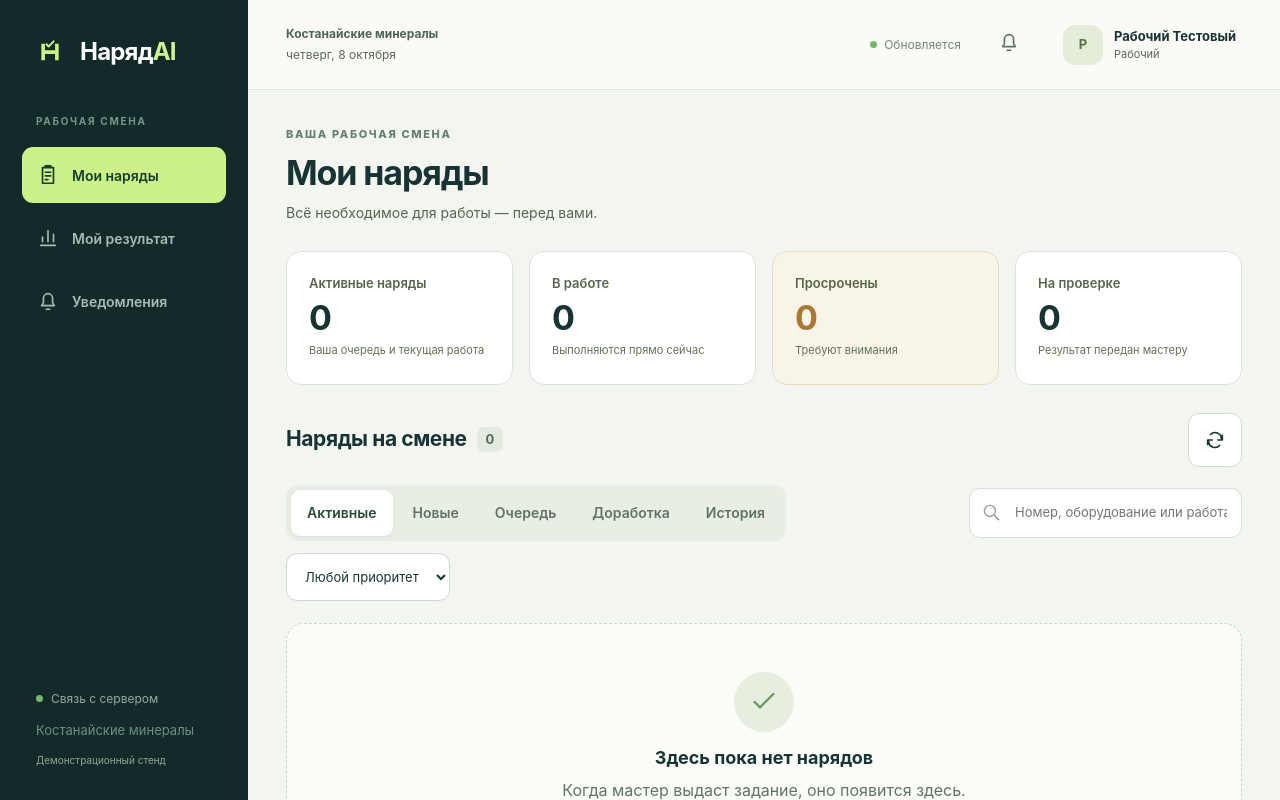
Test: Оболочка рабочего приложения › профиль удерживает фокус и возвращает его после Escape
expect the heading "Мои наряды" is shown: met, box [286,152,489,192]
Click the button with aria-label "Открыть профиль" at (1150, 44), box [1057,18,1242,72]
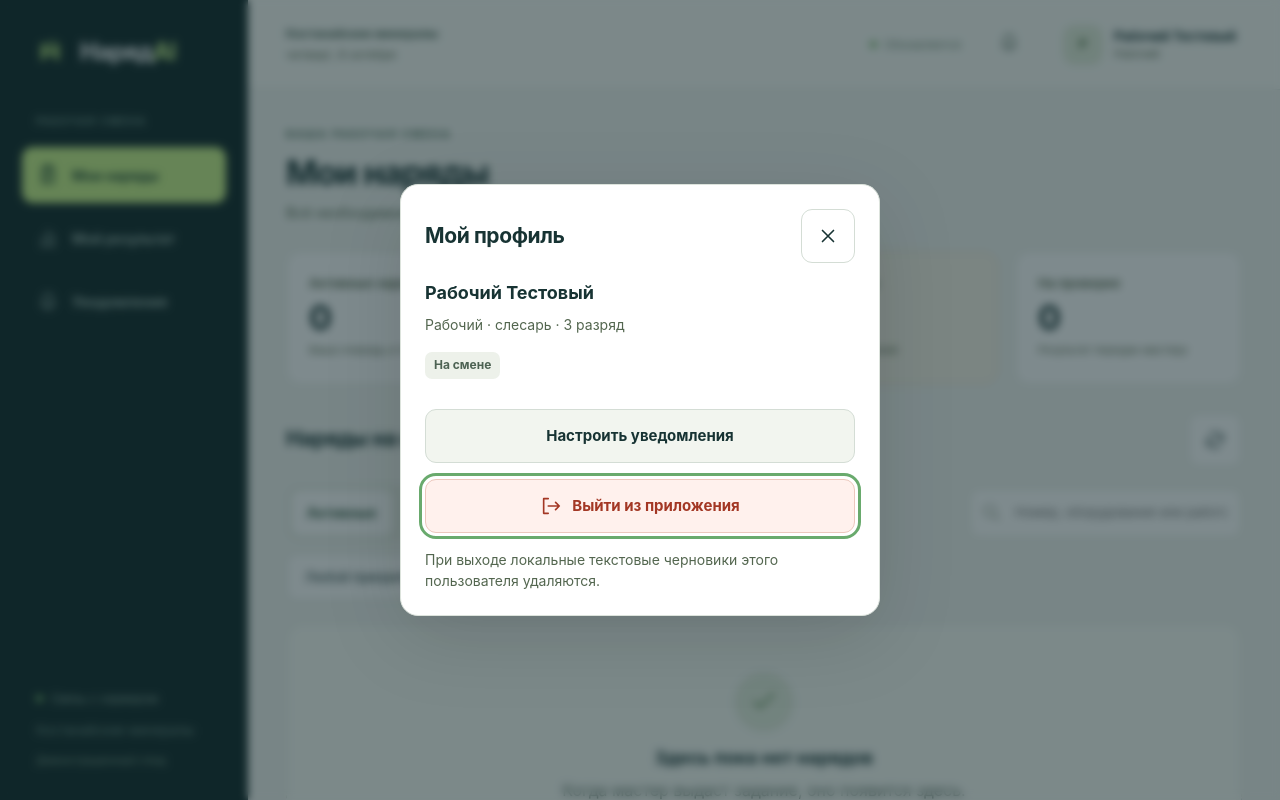
Press Tab
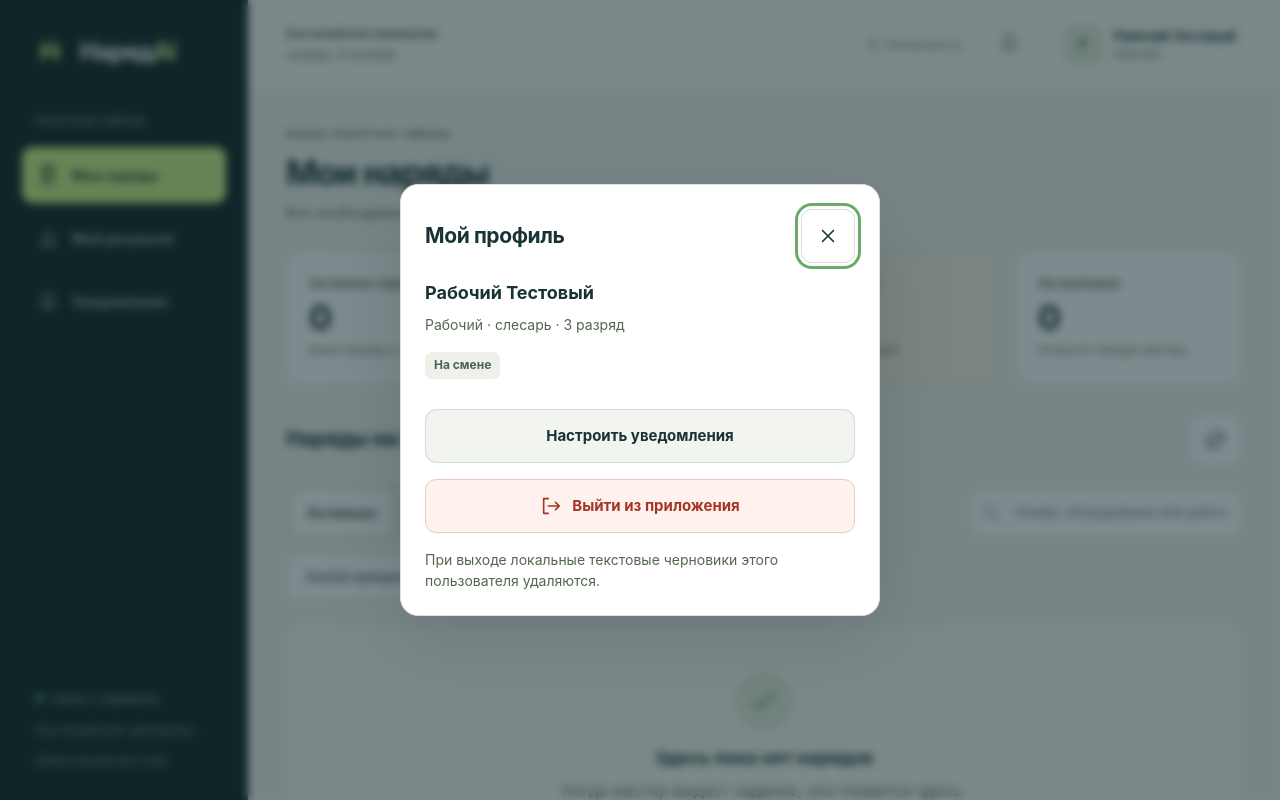
Press Escape
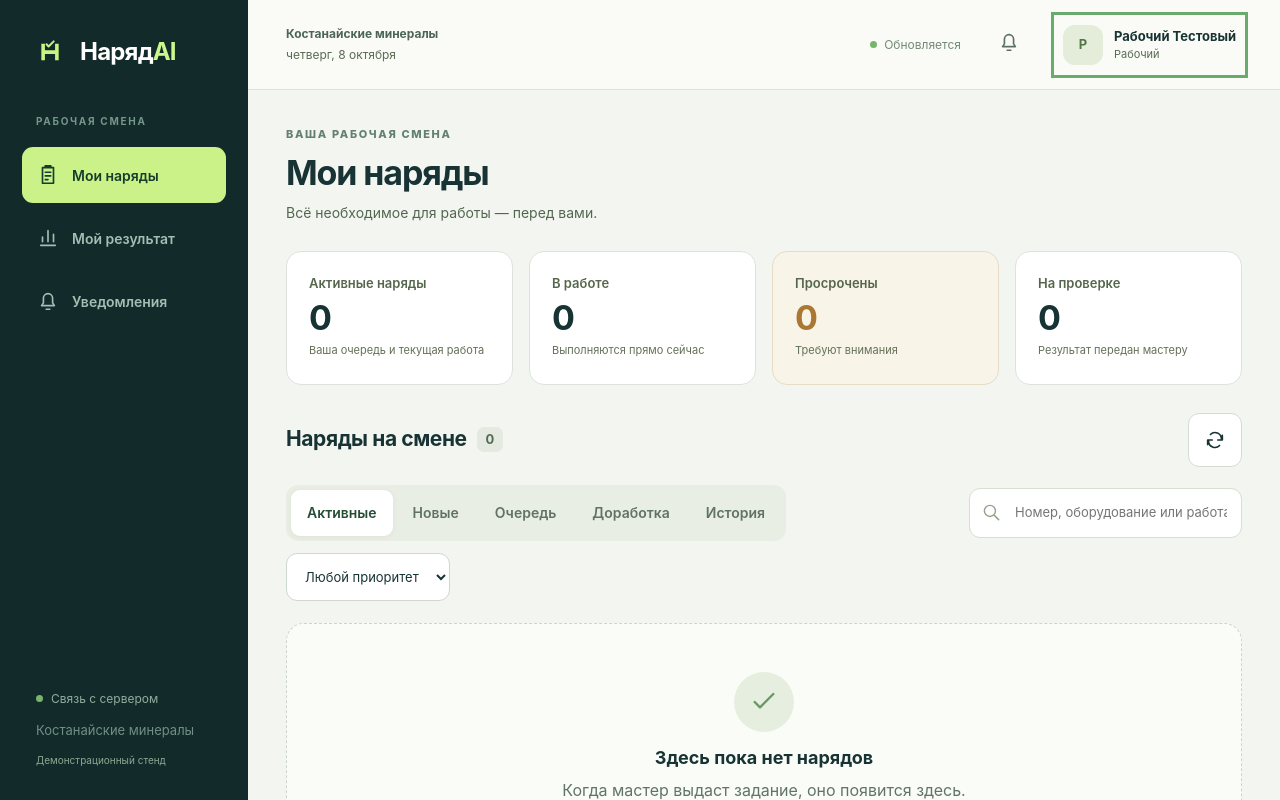
expect the dialog is gone: met
